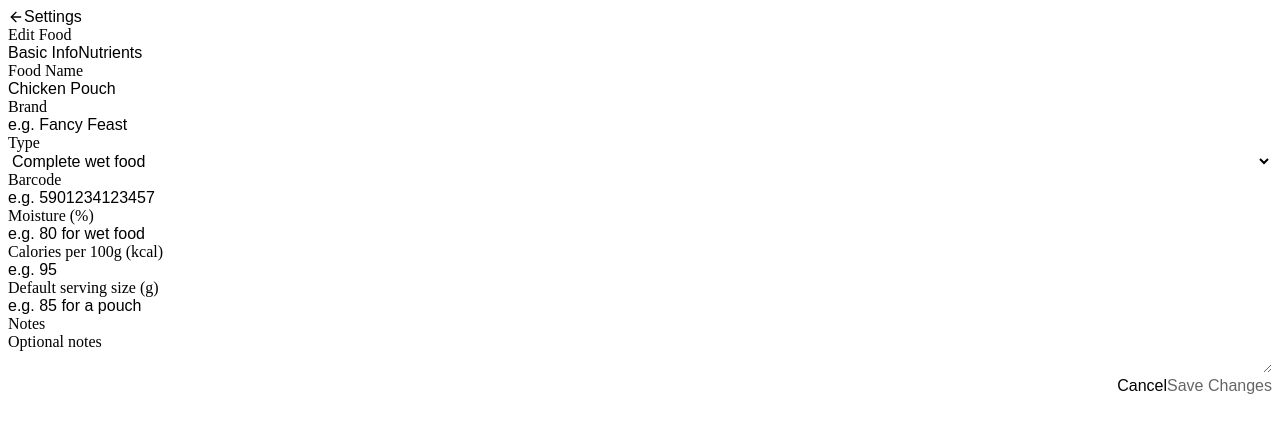
Test: AddEditFoodPage barcode › refuses to save a barcode of no GTIN length
Type "59012341234" into the field labelled "Barcode" at (640, 198), box [8,189,1272,207]
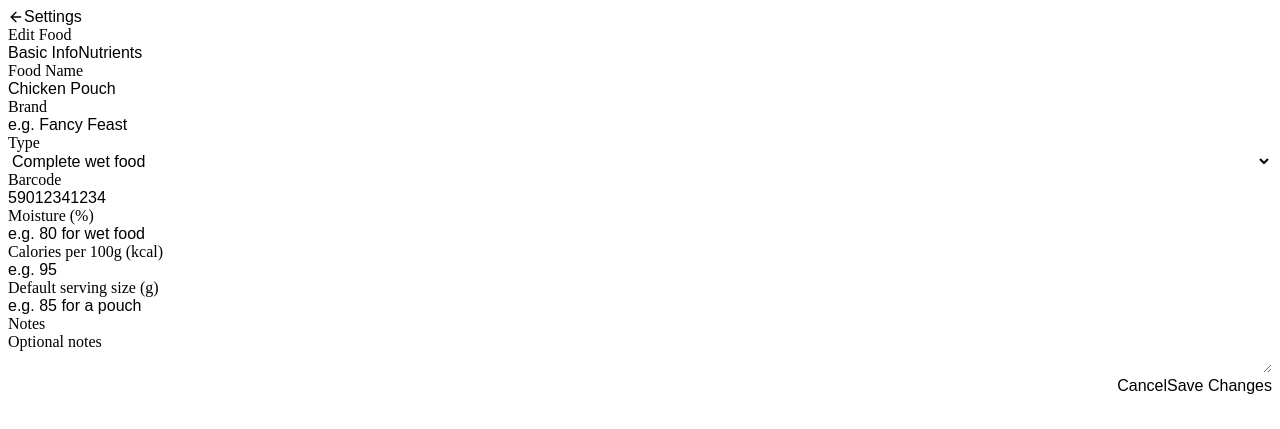
Click the button "Save Changes" at (1220, 386), box [1167,377,1272,395]
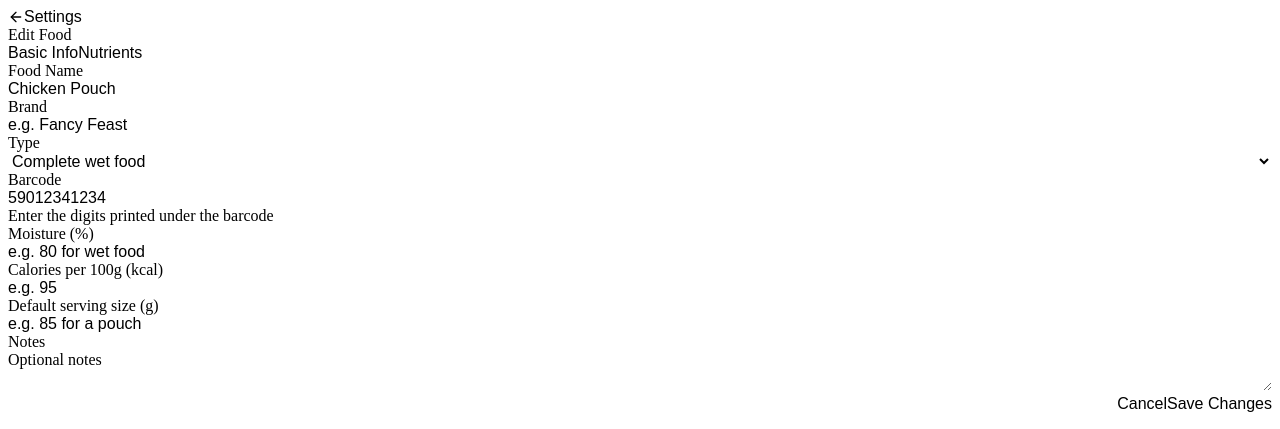
Now the text "Enter the digits printed under the barcode" is shown, box [8,207,274,224]
